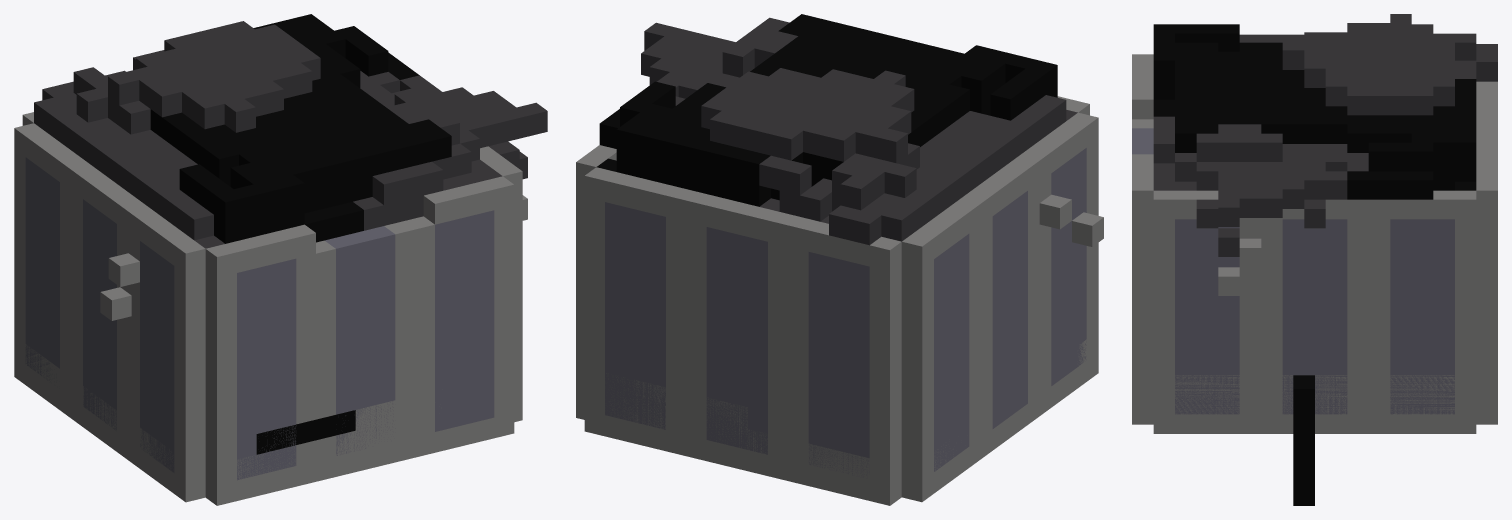
The model's file is trashcan.glb.
3 views of the same model, side by side, from view 1: azimuth 30°, elevation 25°; view 2: azimuth 150°, elevation 25°; view 3: azimuth 270°, elevation 25° (orthographic). The views are drawn at different scales.
Parts seen in each view (by area): view 1: base, front, l, couvercle, mouth; view 2: base, b, l, couvercle; view 3: base, r, couvercle, glasses, front.
Boxes of the visible parts, x1=… form: base: x1=14, y1=14, x2=547, y2=505; front: x1=237, y1=210, x2=494, y2=480; l: x1=25, y1=157, x2=174, y2=472; couvercle: x1=14, y1=336, x2=522, y2=505; mouth: x1=256, y1=410, x2=355, y2=454; base: x1=576, y1=14, x2=1103, y2=505; b: x1=605, y1=202, x2=869, y2=477; l: x1=934, y1=148, x2=1086, y2=471; couvercle: x1=576, y1=333, x2=1098, y2=505; base: x1=1132, y1=14, x2=1497, y2=433; r: x1=1175, y1=219, x2=1454, y2=414; couvercle: x1=1132, y1=366, x2=1497, y2=414; glasses: x1=1293, y1=375, x2=1314, y2=505; front: x1=1132, y1=128, x2=1153, y2=154.
Bounding box in the file's own units: 22 × 18 × 17.
11 materials, 11 textured.
